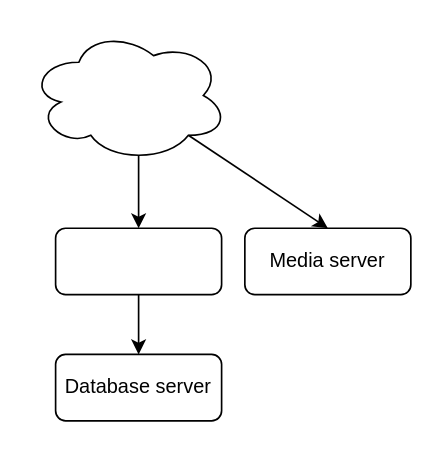
Image size: 440x450. Some labels were removed from this diagram. Each missing label, with the box of its shape:
The Web: (27, 27, 228, 162)
Web server: (54, 227, 222, 295)
